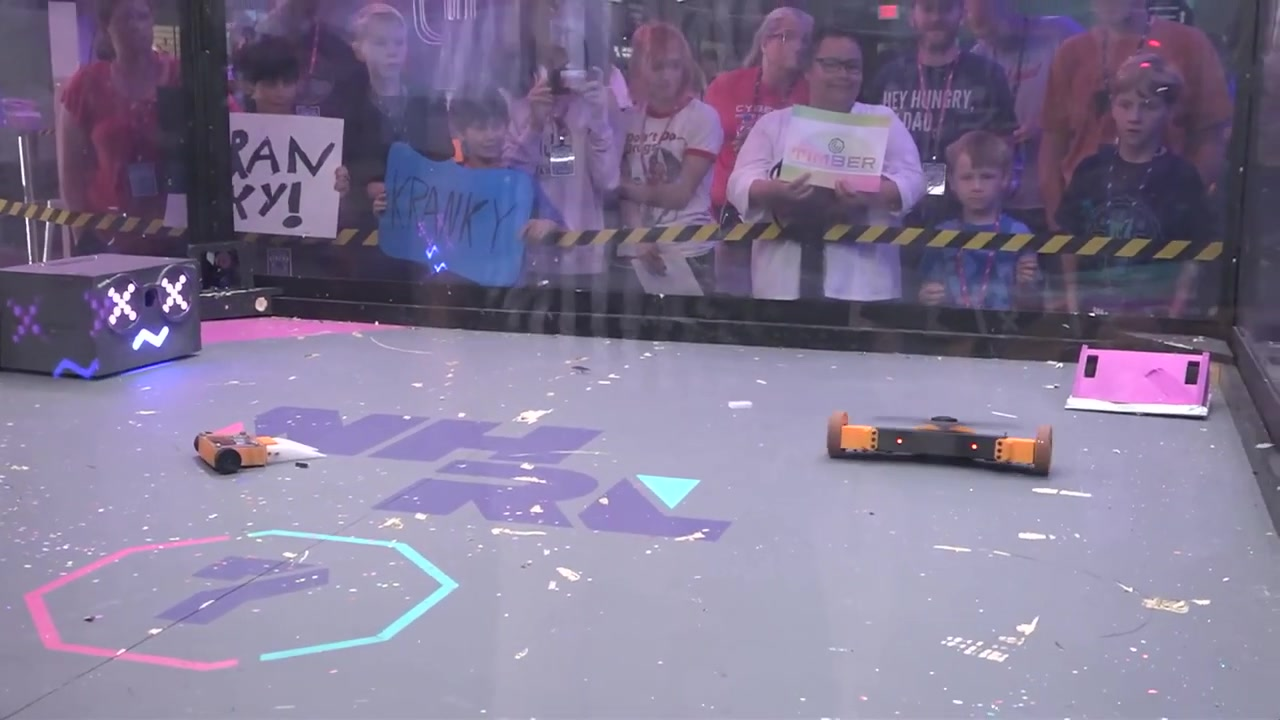combatbot: (826, 410, 1054, 478), (1065, 341, 1214, 420)
housebot: (1, 253, 202, 381)
minibot: (192, 431, 276, 477)
